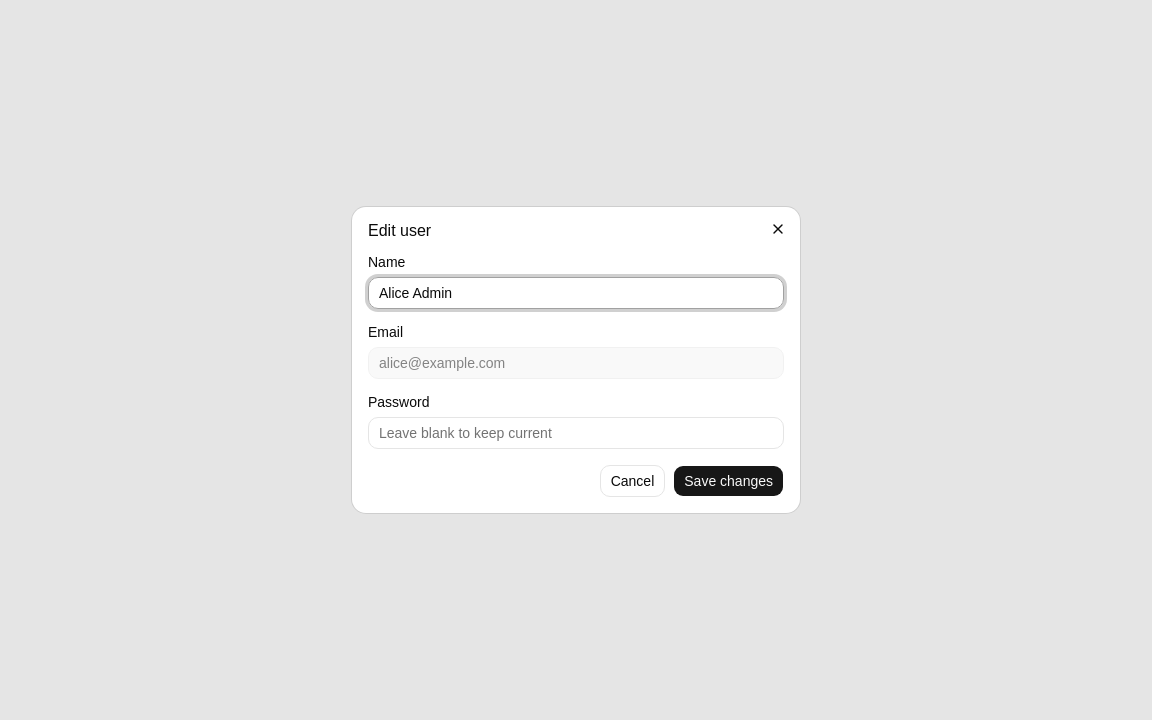
Test: EditUserDialog › form validation › shows error when name is empty
The width and height of the screenshot is (1152, 720).
Step 1. Clear the field labelled "Name" → (576, 293), box 368,277 -> 784,309
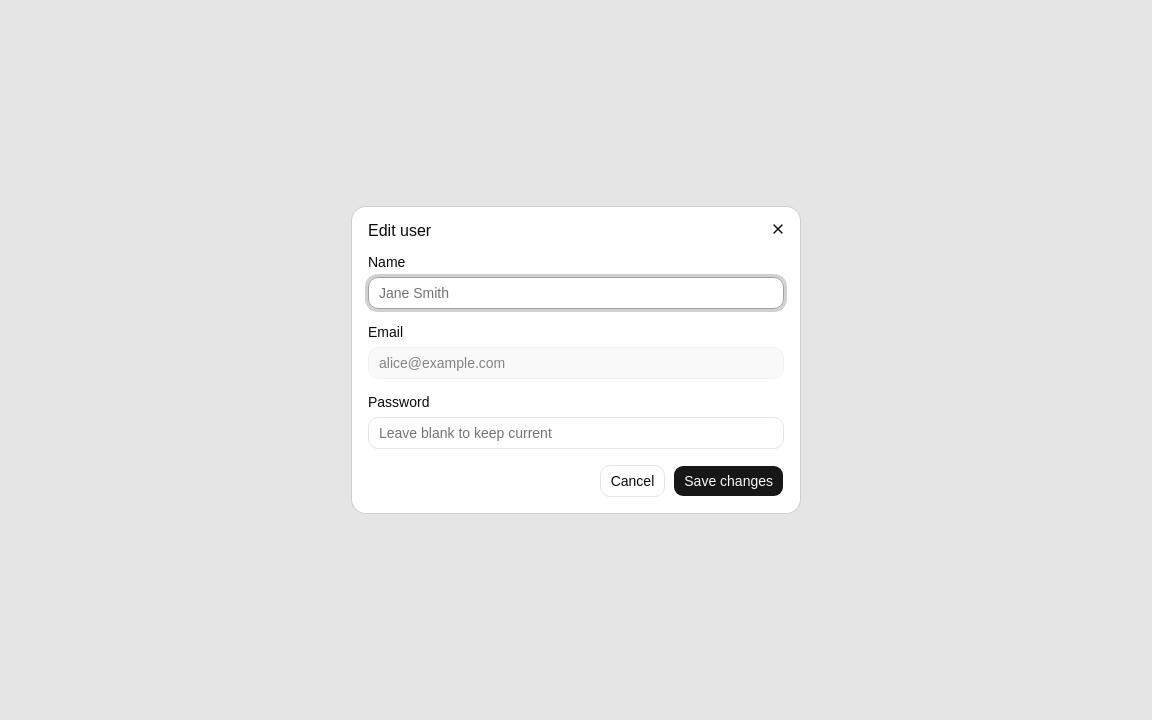
Step 2. Submit the form with test id "edit-user-form", box 368,255 -> 784,497
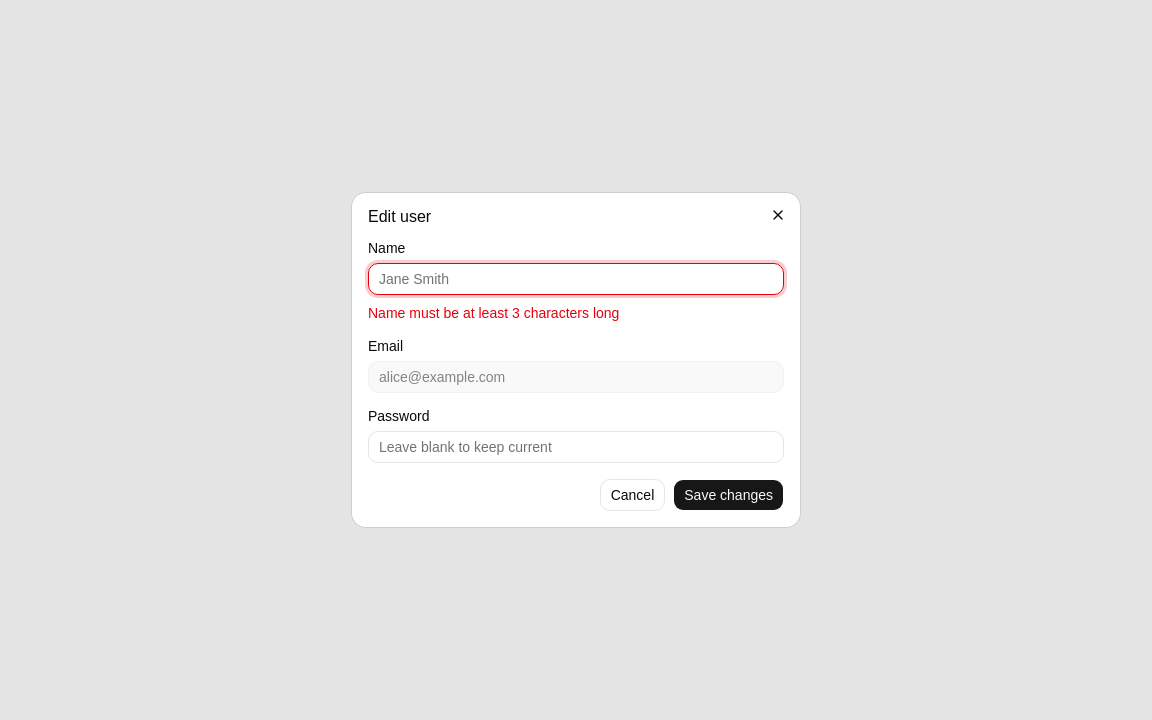
Now the text "Name must be at least 3 characters long" is shown, box 368,305 -> 619,321
